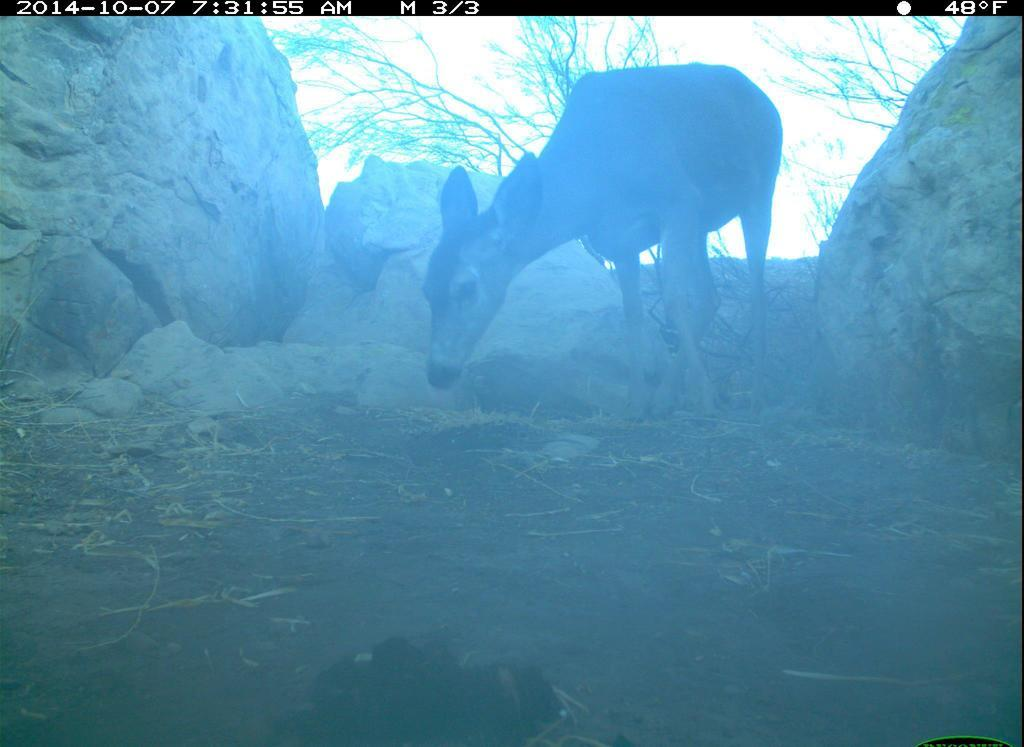deer: (386, 56, 799, 450)
